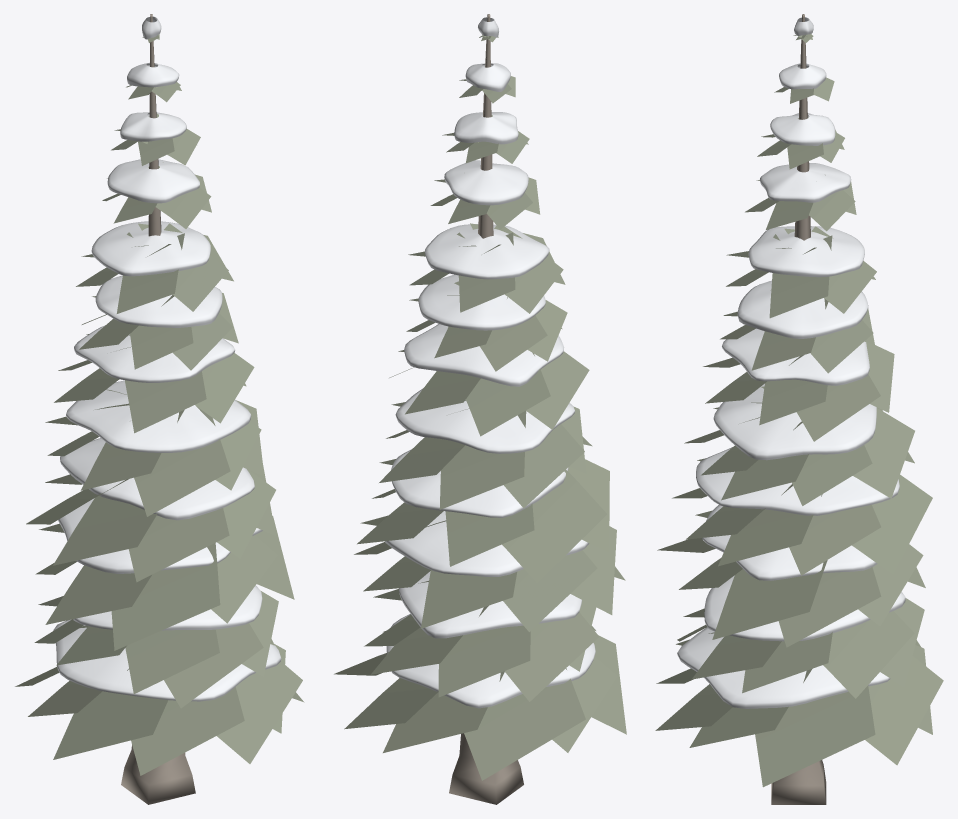
File: fir_604.glb
3 renders of one model, left to right at view 1: azimuth 30°, elevation 25°; view 2: azimuth 150°, elevation 25°; view 3: azimuth 270°, elevation 25°, orthographic.
Visible parts, largest first — view 1: fir_604_boughs, fir_604_snow, fir_604_limbs; view 2: fir_604_boughs, fir_604_snow, fir_604_limbs; view 3: fir_604_boughs, fir_604_snow, fir_604_limbs.
Part boxes in pixels (bbox=[...]): fir_604_boughs: bbox=[15, 34, 304, 775]; fir_604_snow: bbox=[53, 16, 281, 701]; fir_604_limbs: bbox=[121, 14, 195, 804]; fir_604_boughs: bbox=[334, 35, 626, 780]; fir_604_snow: bbox=[385, 17, 595, 708]; fir_604_limbs: bbox=[449, 14, 523, 804]; fir_604_boughs: bbox=[655, 33, 943, 787]; fir_604_snow: bbox=[677, 17, 905, 708]; fir_604_limbs: bbox=[771, 14, 826, 804].
Bounding box in the file's own units: 5.76 × 16.99 × 5.72.
